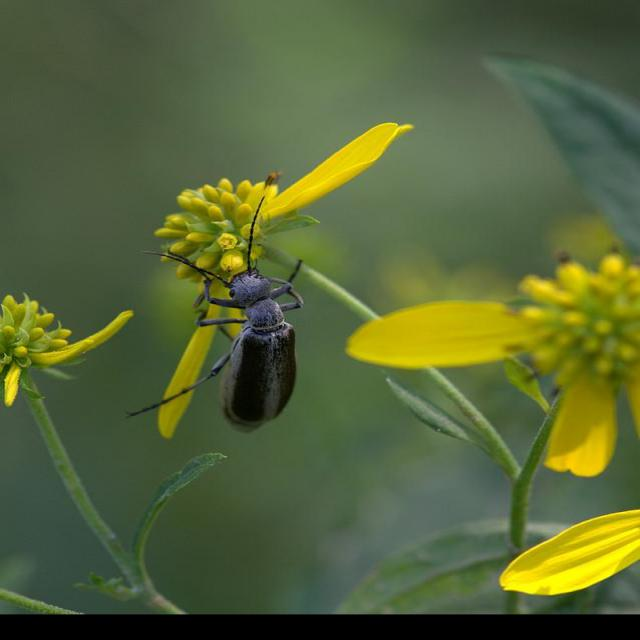BlisterBeetle-Adult-: (134, 169, 350, 447)
